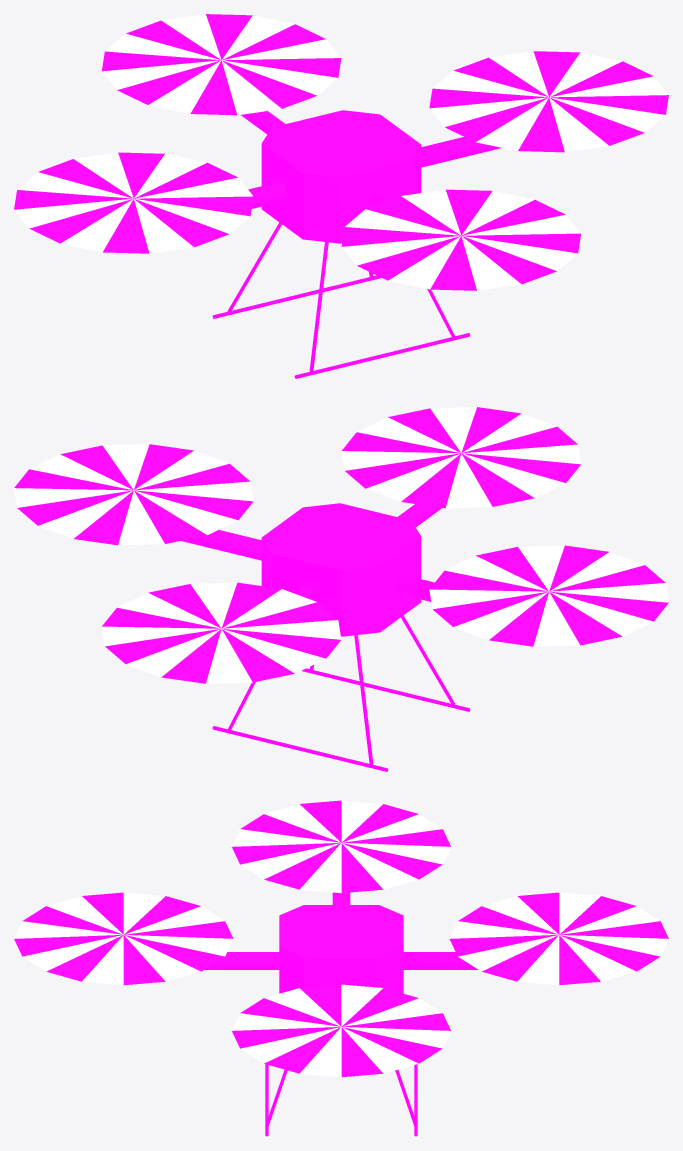
File: quadrotor_base.dae
3 views of the same model, one above another, from view 1: azimuth 30°, elevation 25°; view 2: azimuth 150°, elevation 25°; view 3: azimuth 270°, elevation 25° (orthographic). The views are drawn at different scales.
Parts seen in each view (by area): view 1: MainBody_002; view 2: MainBody_002; view 3: MainBody_002.
Boxes of the visible parts, bbox=[...] form: MainBody_002: bbox=[14, 14, 668, 378]; MainBody_002: bbox=[14, 407, 668, 771]; MainBody_002: bbox=[14, 800, 668, 1136].
Bounding box in the file's own units: 0.7911 × 0.7911 × 0.2225.
